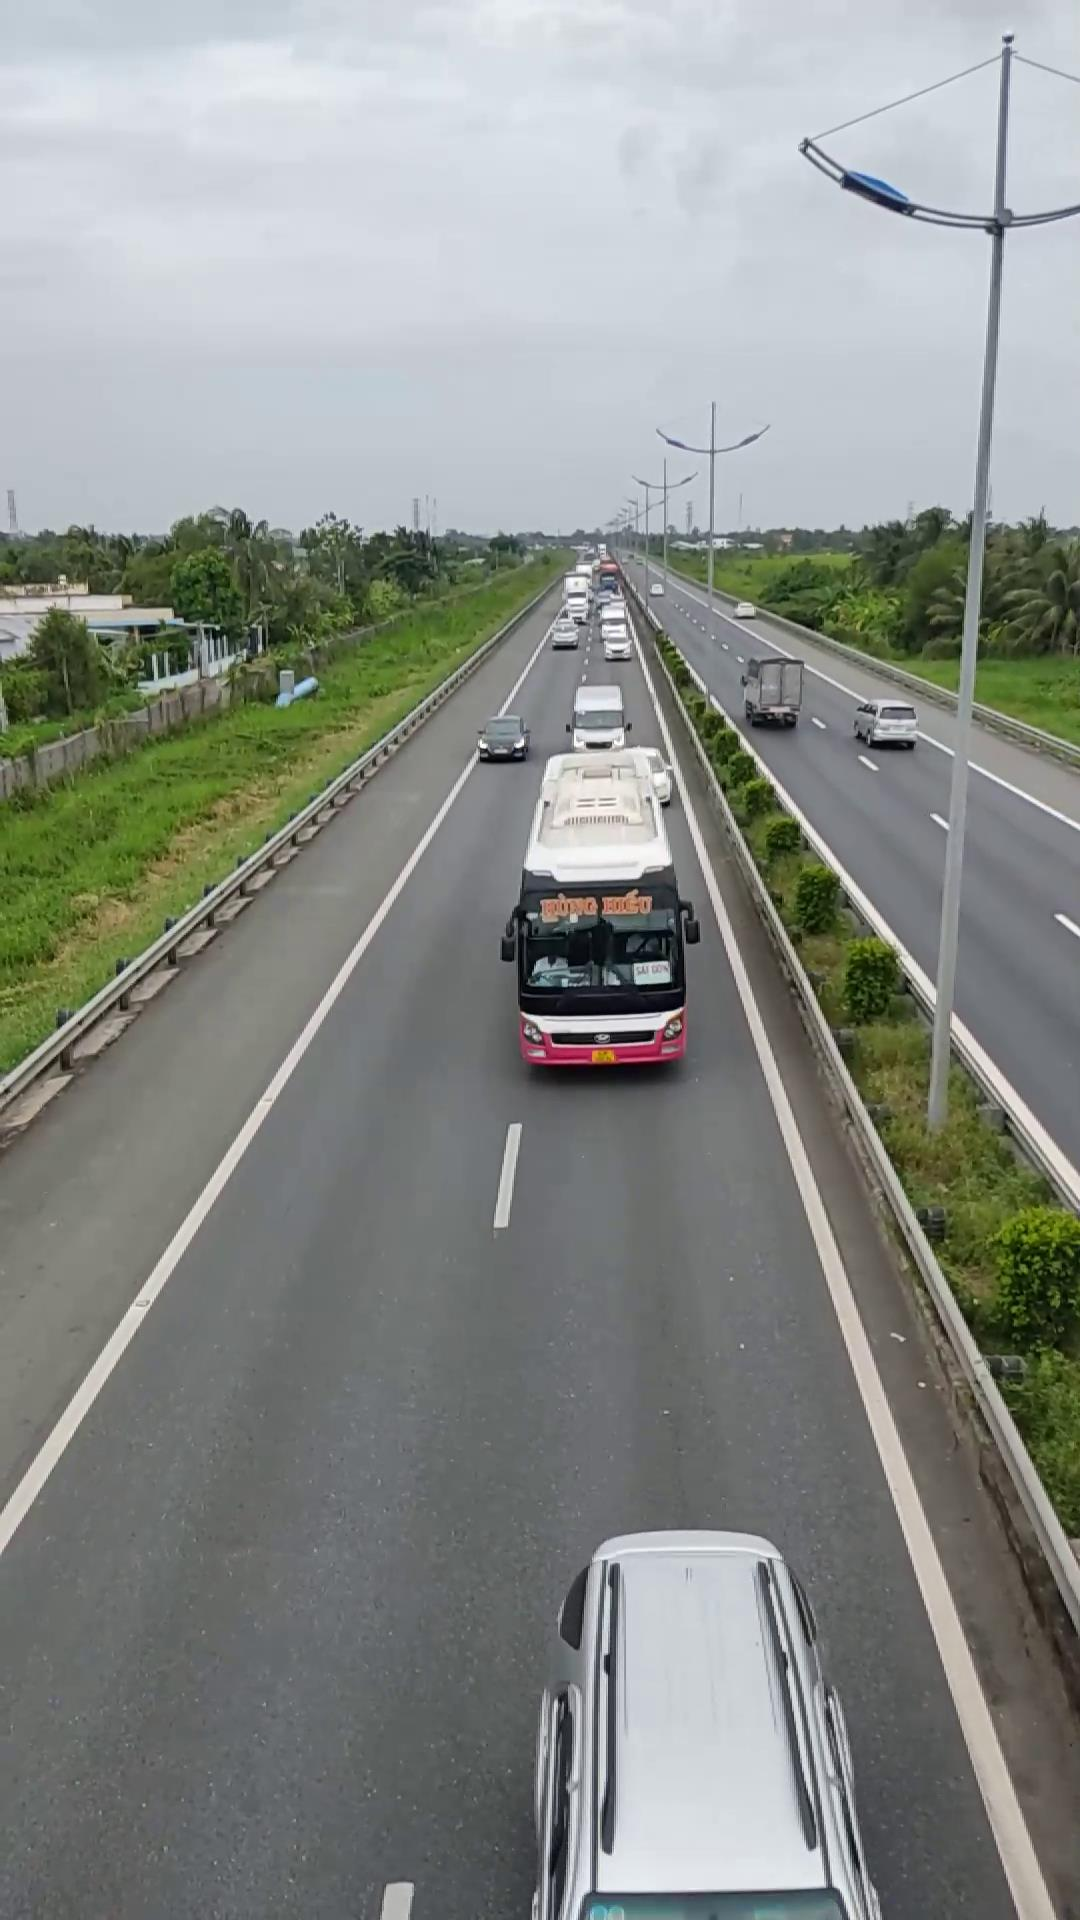bus: (500, 753, 696, 1074)
car: (526, 1523, 872, 1918)
truck: (740, 653, 802, 726)
